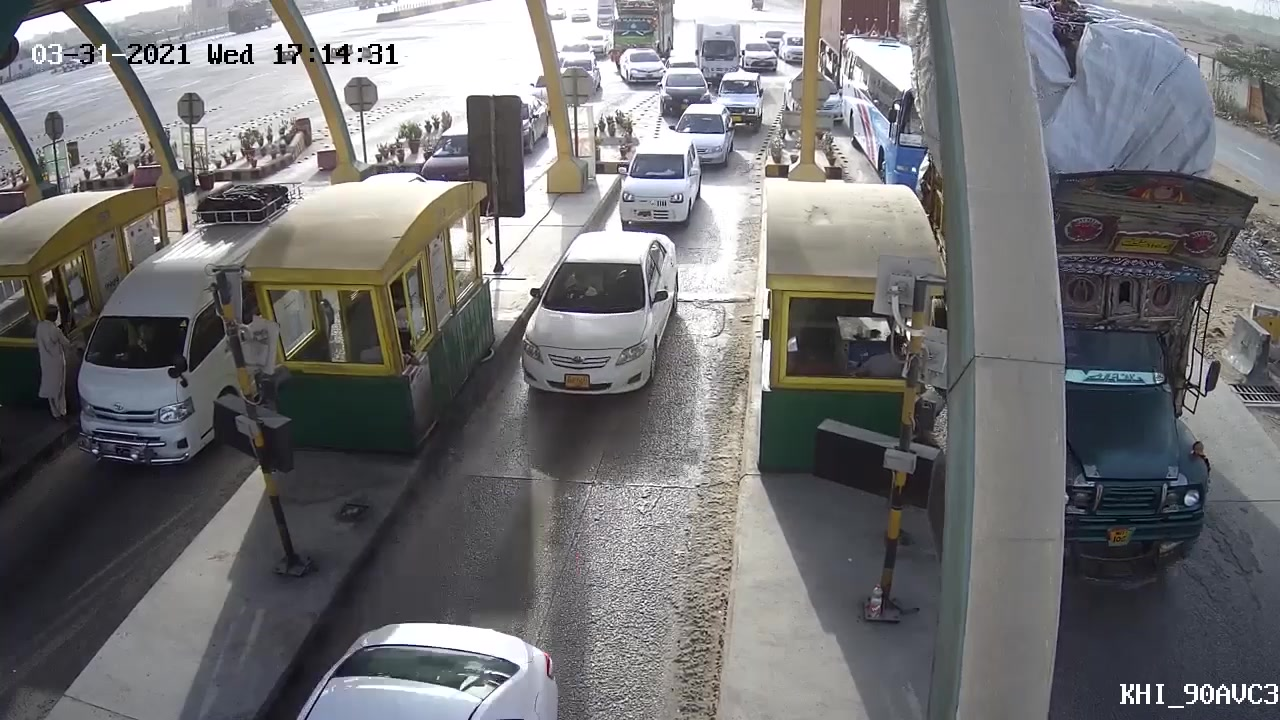F1: (513, 229, 696, 403), (612, 145, 703, 228)
